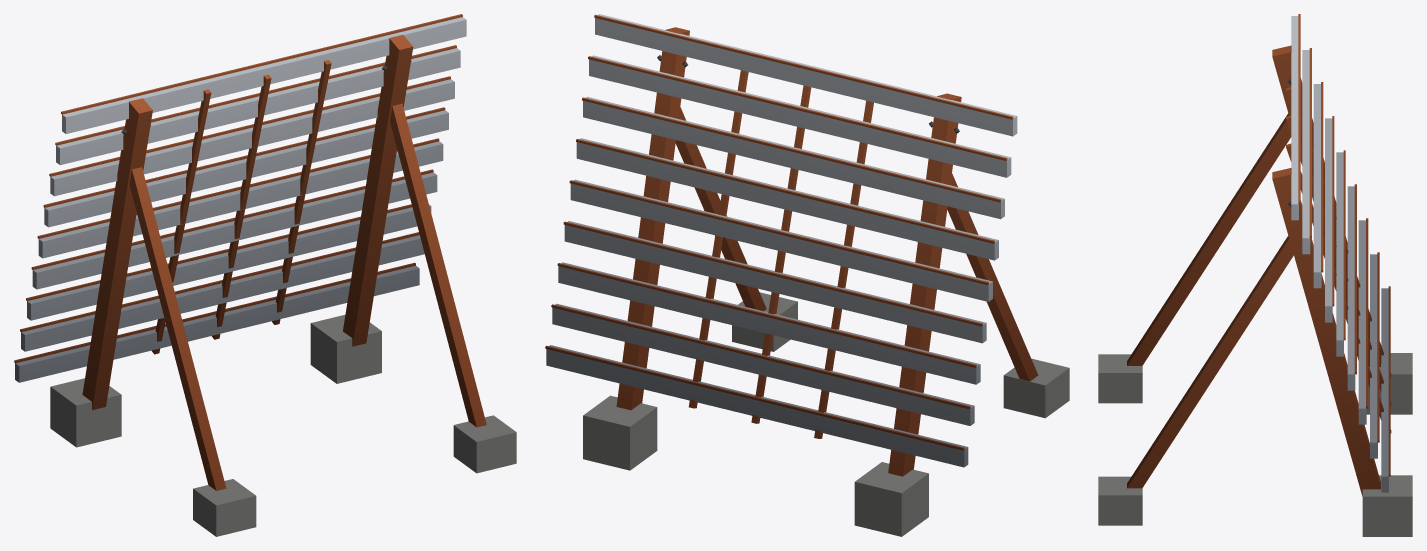
Rendered from Avalanche_Barrier.fbx.
3 renders of one model, left to right at view 1: azimuth 30°, elevation 25°; view 2: azimuth 150°, elevation 25°; view 3: azimuth 270°, elevation 25°, orthographic. The views are drawn at different scales.
Visible parts, largest first — view 1: Avalanche_Barrier_LOD0; view 2: Avalanche_Barrier_LOD0; view 3: Avalanche_Barrier_LOD0.
Part boxes in pixels (x1,y1,x2,y2): Avalanche_Barrier_LOD0: (14,14,516,536); Avalanche_Barrier_LOD0: (545,14,1069,536); Avalanche_Barrier_LOD0: (1098,14,1412,536).
Size of what is drawn, in the model's own units: 4 by 3.56 by 2.82.
1 material, 1 textured.
